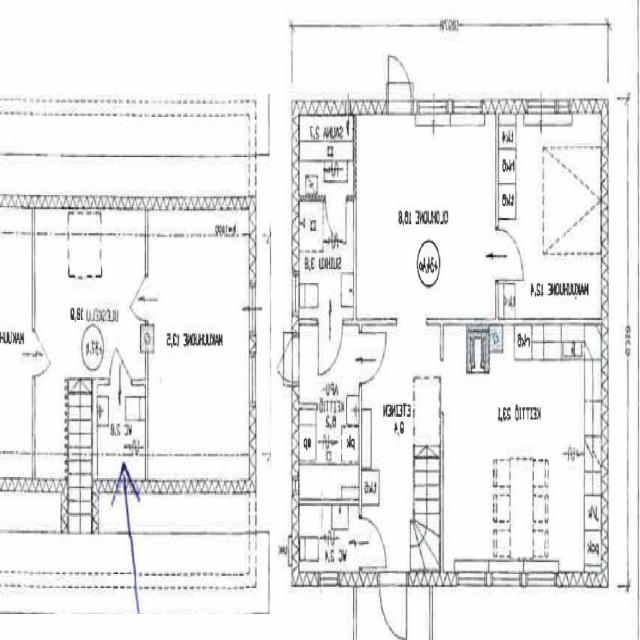door: (380, 572, 408, 640), (388, 51, 412, 114), (268, 336, 299, 384), (318, 318, 342, 374), (359, 333, 386, 382), (496, 230, 522, 280), (360, 518, 386, 567), (32, 328, 58, 374), (325, 195, 347, 247), (110, 333, 132, 385), (124, 274, 148, 319)
